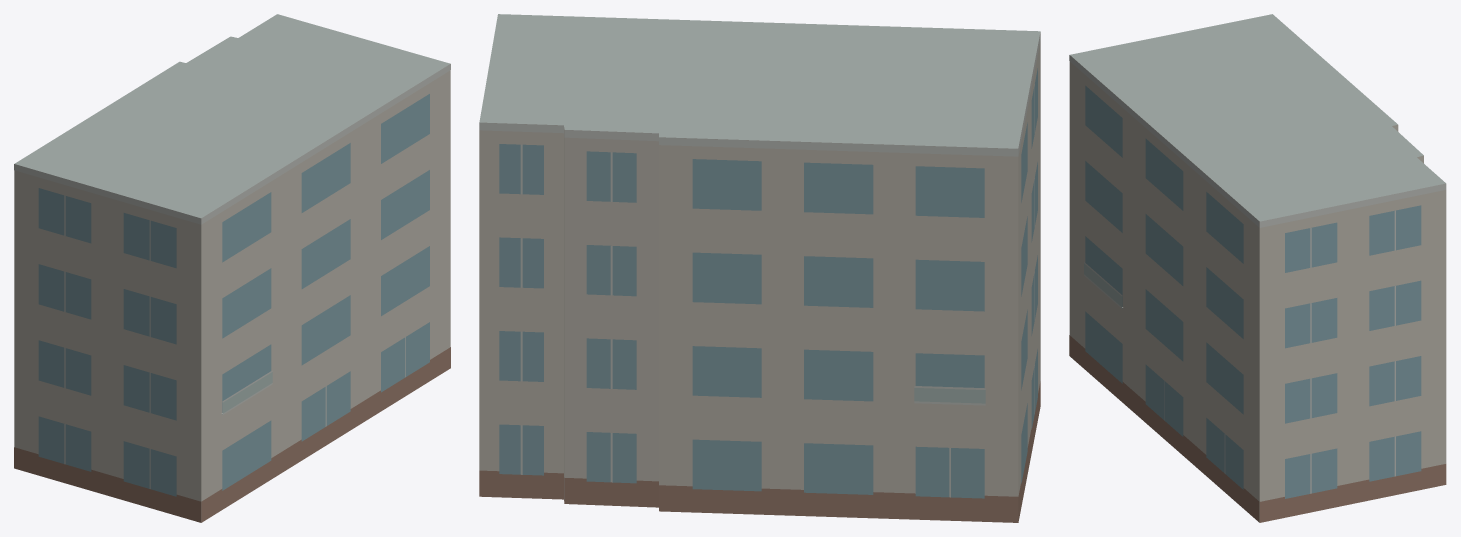
Rendered from survey-upis-32928756.glb.
3 renders of one model, left to right at view 1: azimuth 30°, elevation 25°; view 2: azimuth 150°, elevation 25°; view 3: azimuth 270°, elevation 25°, orthographic. The views are drawn at different scales.
Visible parts, largest first — view 1: survey-upis-32928756.tmp; view 2: survey-upis-32928756.tmp; view 3: survey-upis-32928756.tmp.
Boxes of the visible parts, x1,y1,x2,y2 form: survey-upis-32928756.tmp: (14,14,450,522); survey-upis-32928756.tmp: (479,14,1040,522); survey-upis-32928756.tmp: (1069,14,1446,522).
Bounding box in the file's own units: 17.15 × 11.6 × 13.16.
